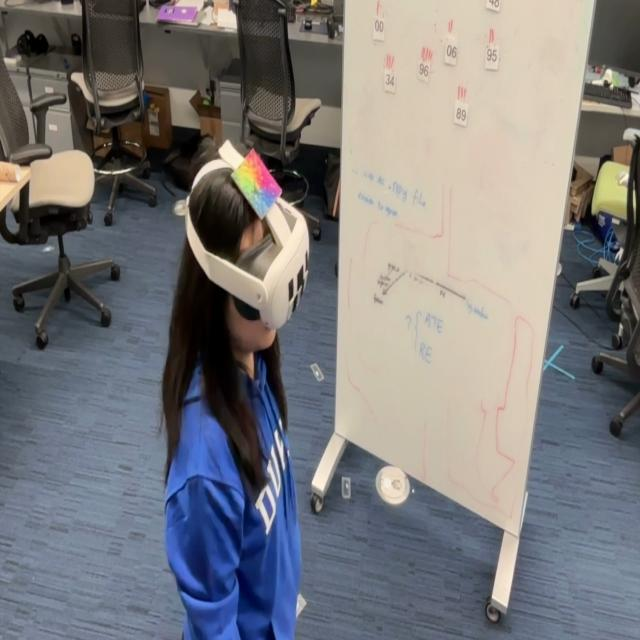Headset: (185, 157, 310, 331)
Marker: (230, 144, 283, 228)
